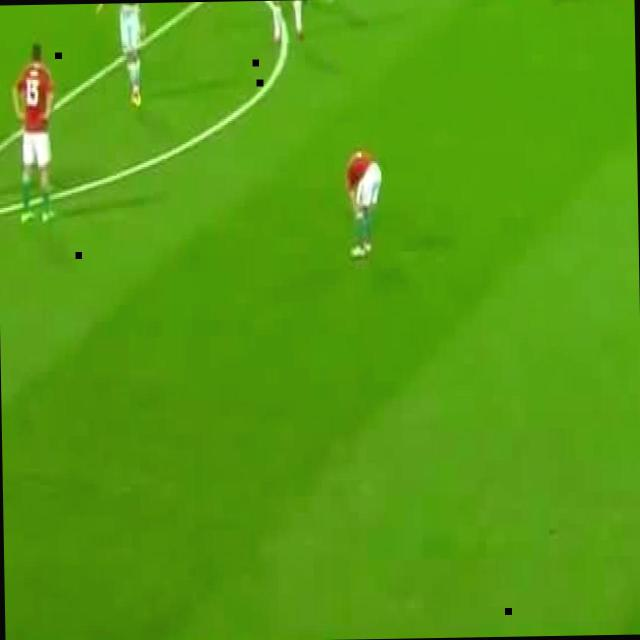player-white: (12, 44, 56, 225), (96, 3, 146, 107), (343, 148, 382, 260), (264, 1, 304, 40)
